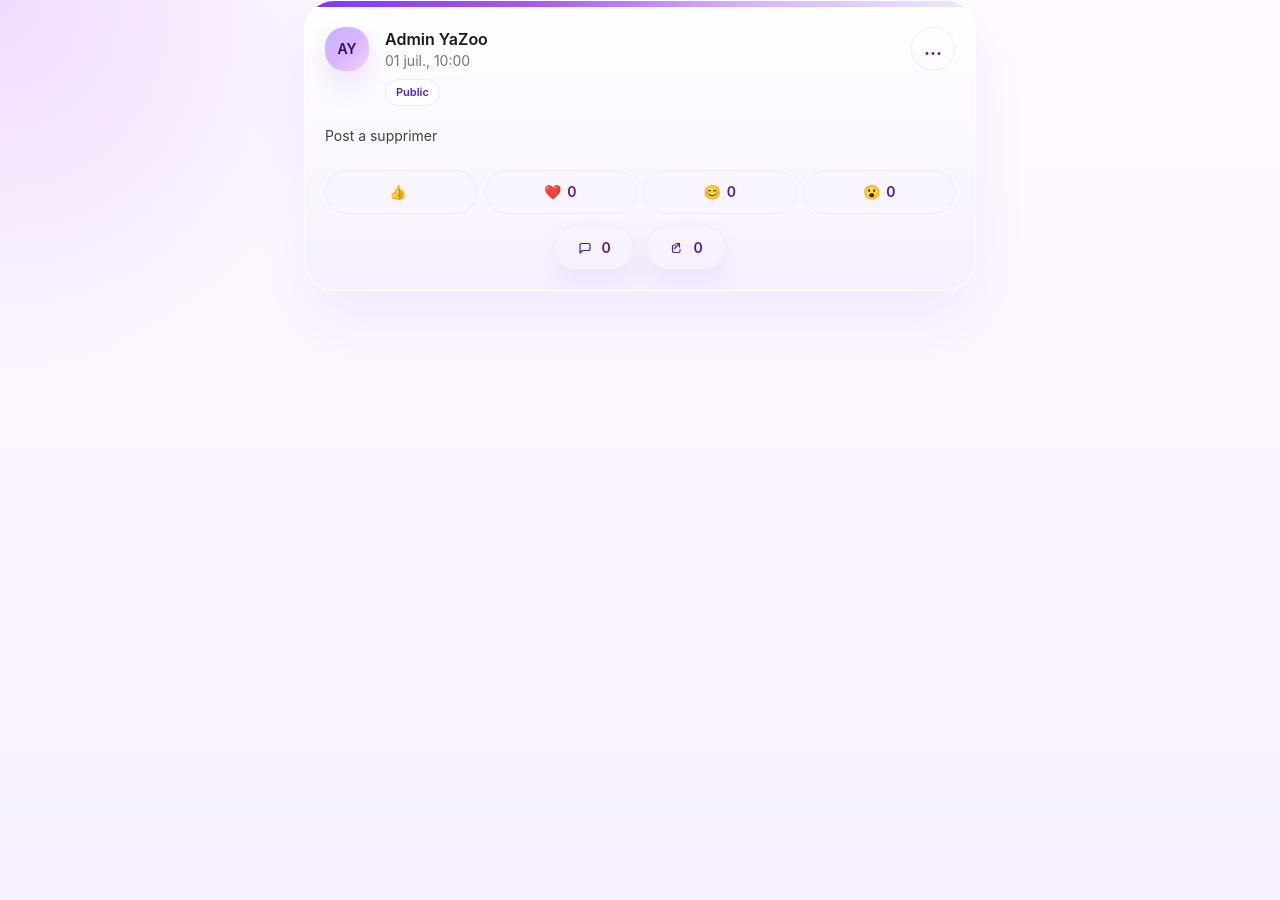
Scenario: PostCard › affiche le libelle de confirmation de suppression pendant le traitement
Click the button named "Options du post" at (933, 49), box [911, 27, 955, 71]
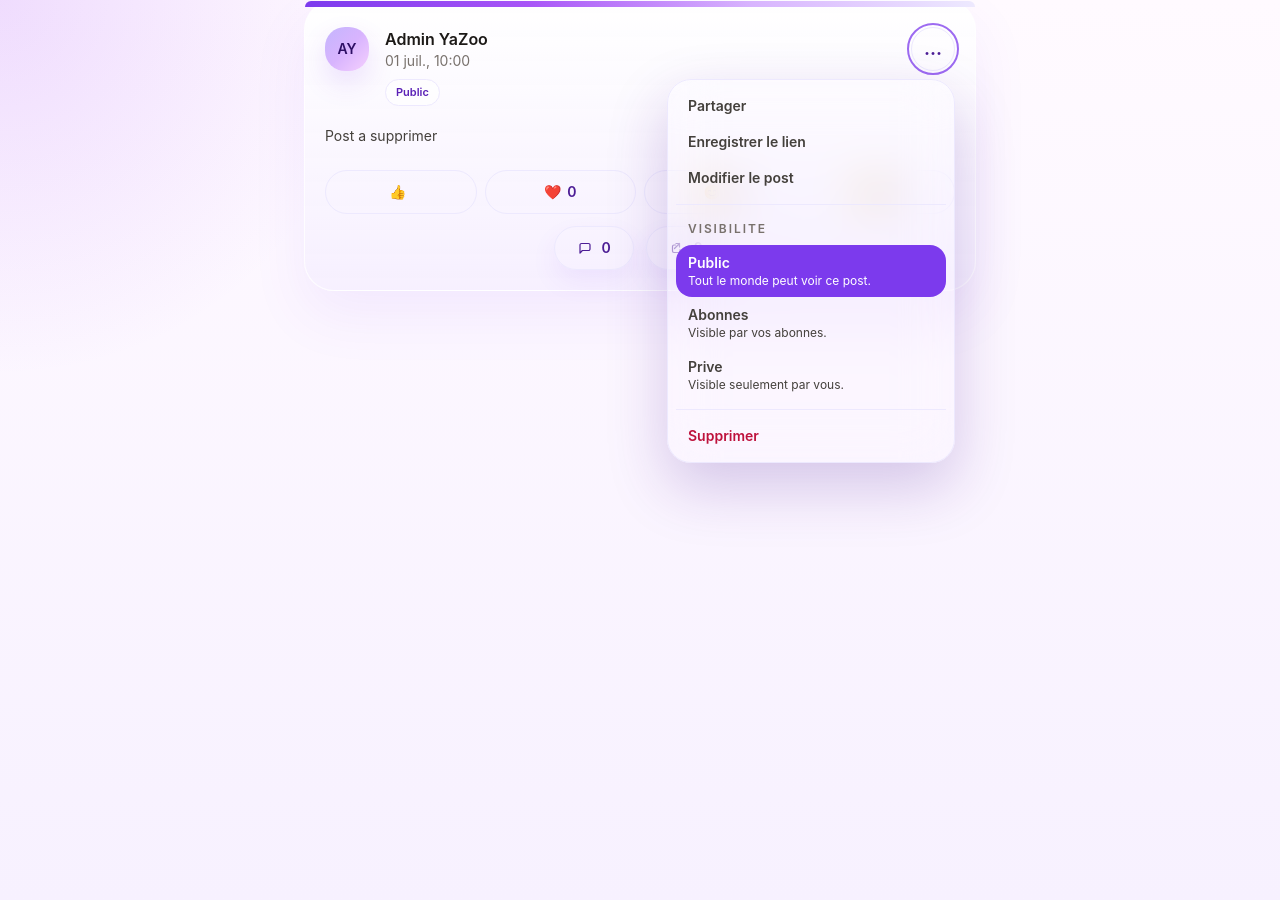
Click the button "Supprimer" at (723, 436), box [676, 418, 946, 454]
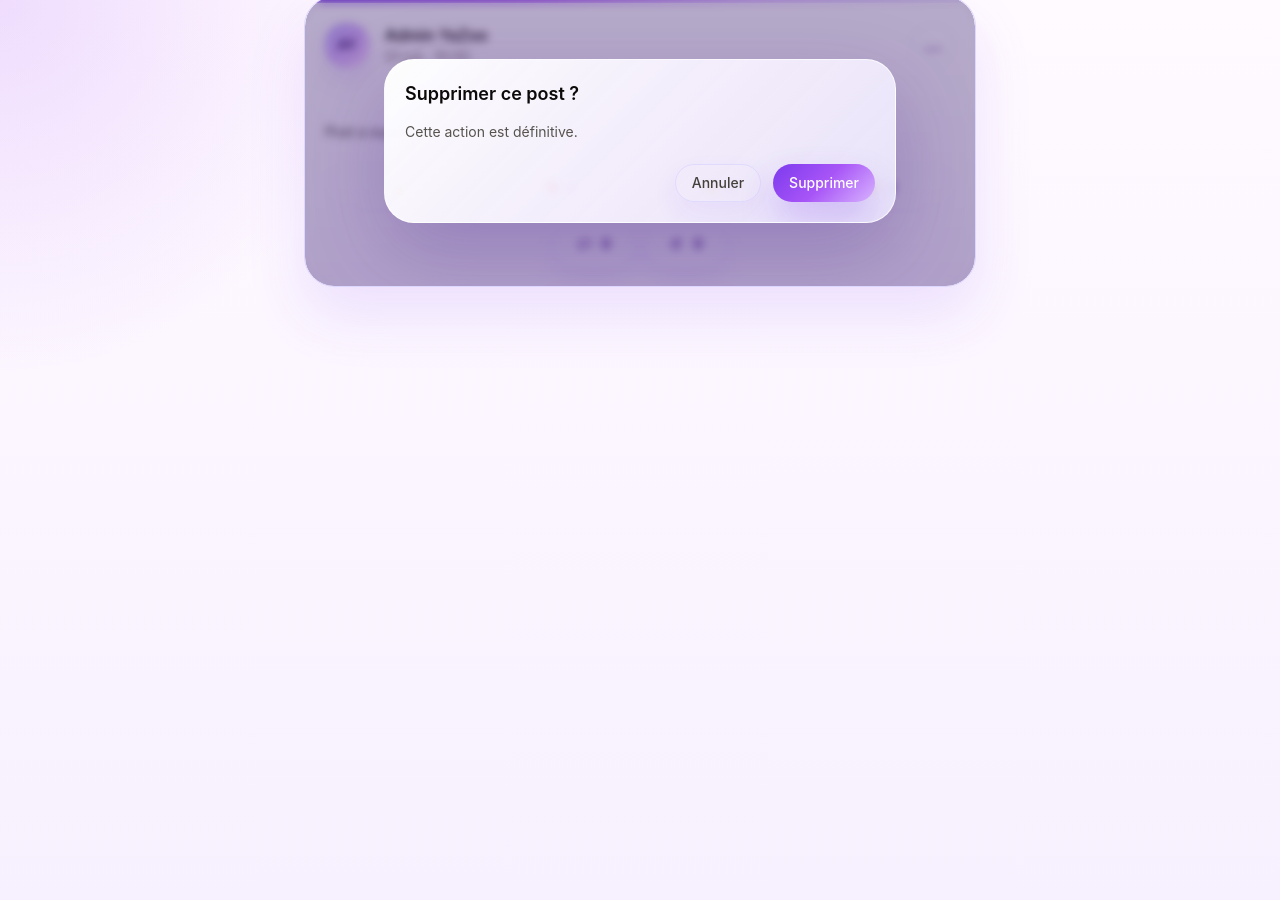
Now the dialog is shown, box [384, 59, 896, 223]
Now the button "Supprimer" is shown, box [773, 164, 875, 202]
